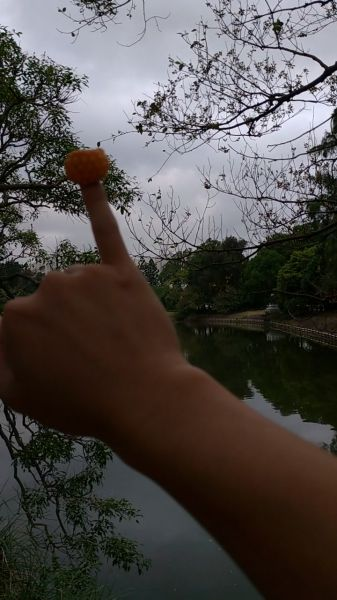eggs: (63, 149, 112, 184)
